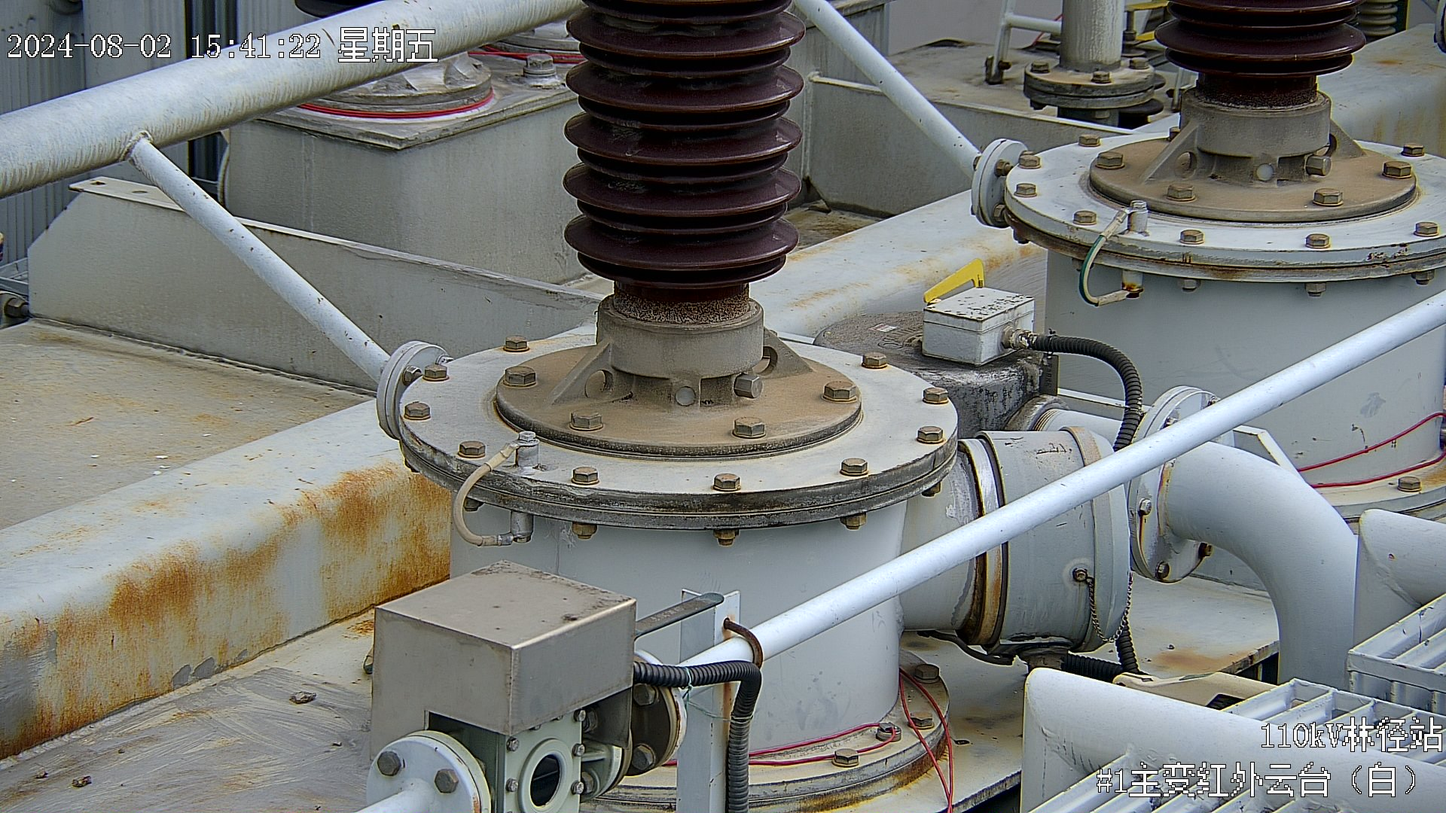HTX: (0, 328, 455, 813), (776, 627, 959, 813), (785, 207, 1048, 335), (976, 201, 1249, 299), (1348, 24, 1445, 160), (1135, 462, 1211, 583), (172, 169, 254, 254), (718, 611, 764, 748), (953, 543, 1004, 652), (1135, 638, 1272, 675), (944, 698, 1025, 756), (1057, 424, 1102, 468), (1360, 239, 1412, 269), (389, 0, 432, 29), (1413, 455, 1446, 488), (917, 38, 975, 50), (320, 25, 335, 47), (470, 790, 484, 812)
